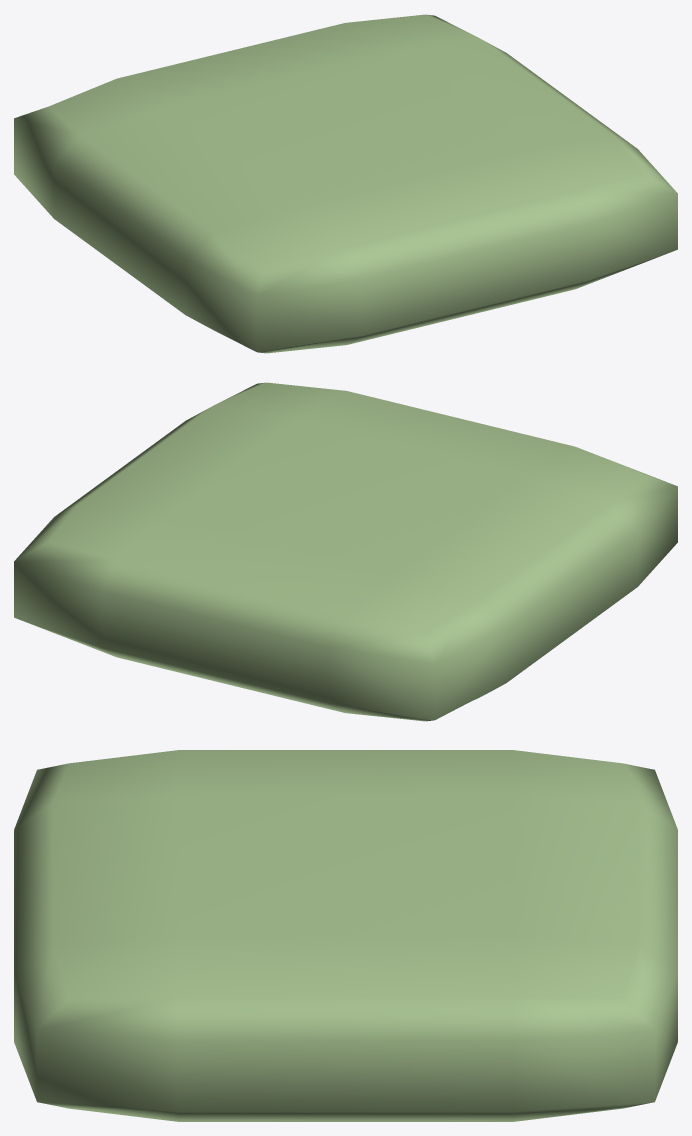
The model's file is Pillow_21.glb.
3 renders of one model, top to bottom at view 1: azimuth 30°, elevation 25°; view 2: azimuth 150°, elevation 25°; view 3: azimuth 270°, elevation 25°, orthographic. The views are drawn at different scales.
Visible parts, largest first — view 1: Pillow_21; view 2: Pillow_21; view 3: Pillow_21.
Part boxes in pixels (x1=…): Pillow_21: x1=14, y1=14, x2=677, y2=353; Pillow_21: x1=14, y1=382, x2=677, y2=721; Pillow_21: x1=14, y1=750, x2=677, y2=1121.
Bounding box in the file's own units: 0.5623 × 0.1318 × 0.5623.
1 material, 1 textured.
